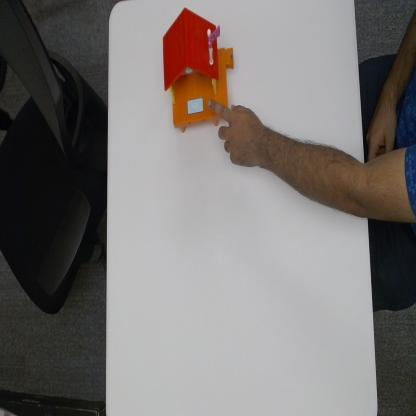Arm: (262, 119, 370, 219)
Hand: (206, 96, 263, 171)
House: (162, 4, 236, 126)
